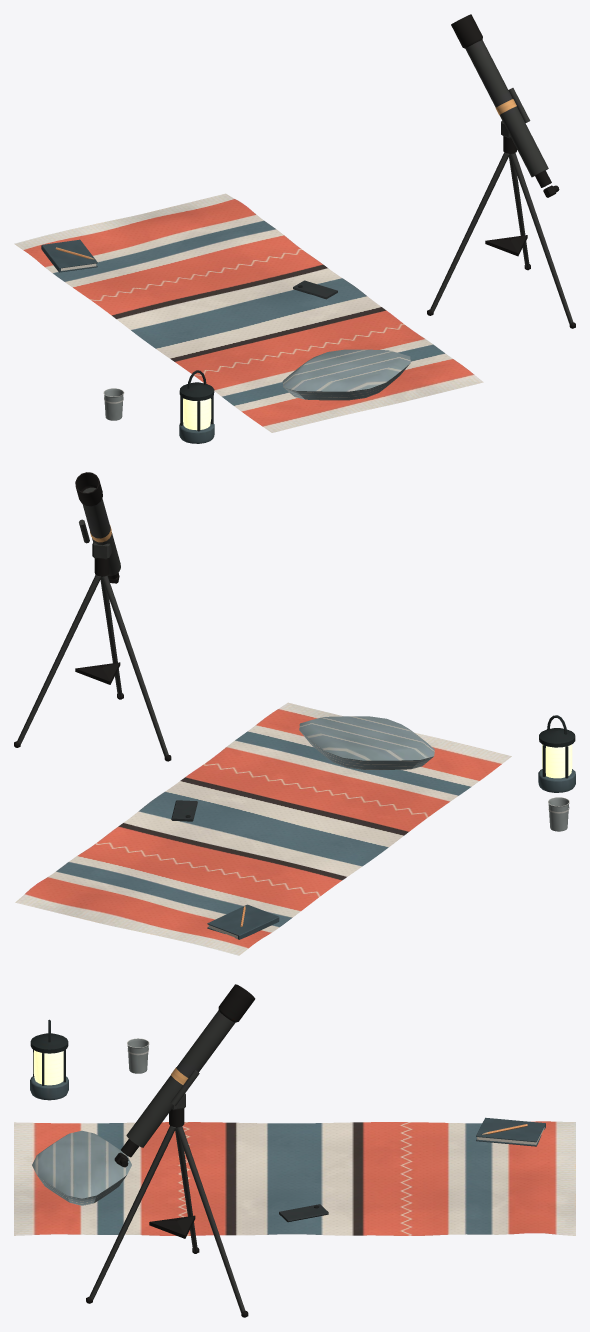
File: terrace-props.glb
3 views of the same model, one above another, from view 1: azimuth 30°, elevation 25°; view 2: azimuth 150°, elevation 25°; view 3: azimuth 270°, elevation 25° (orthographic). The views are drawn at different scales.
Parts seen in each view (by area): view 1: mat, telescope, pillow, lantern, notebook, mug; view 2: mat, telescope, pillow, lantern, notebook, mug; view 3: mat, telescope, pillow, lantern, notebook, mug, phone.
Boxes of the visible parts, left/top/right/bottom form: mat: left=14, top=193, right=483, bottom=432; telescope: left=427, top=14, right=575, bottom=328; pillow: left=282, top=349, right=410, bottom=400; lantern: left=179, top=370, right=214, bottom=443; notebook: left=41, top=239, right=97, bottom=272; mug: left=103, top=388, right=124, bottom=420; mat: left=15, top=702, right=511, bottom=955; telescope: left=14, top=472, right=171, bottom=761; pillow: left=299, top=716, right=434, bottom=769; lantern: left=538, top=715, right=575, bottom=792; notebook: left=207, top=904, right=279, bottom=939; mug: left=548, top=797, right=569, bottom=831; mat: left=14, top=1121, right=575, bottom=1235; telescope: left=86, top=984, right=255, bottom=1317; pillow: left=32, top=1130, right=131, bottom=1205; lantern: left=30, top=1019, right=68, bottom=1100; notebook: left=476, top=1117, right=545, bottom=1146; mug: left=127, top=1038, right=149, bottom=1073; phone: left=279, top=1204, right=328, bottom=1222.
Bounding box in the file's own units: 2.02 × 1.11 × 1.9.
Materials: 2 (2 with a texture image).
